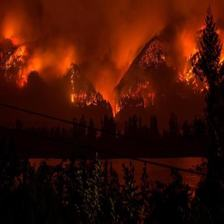fire: (6, 16, 219, 117)
